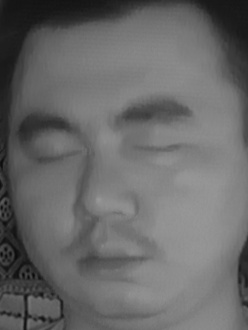blink: (133, 128, 185, 164), (34, 139, 83, 171)
mouth: (68, 233, 145, 284)
